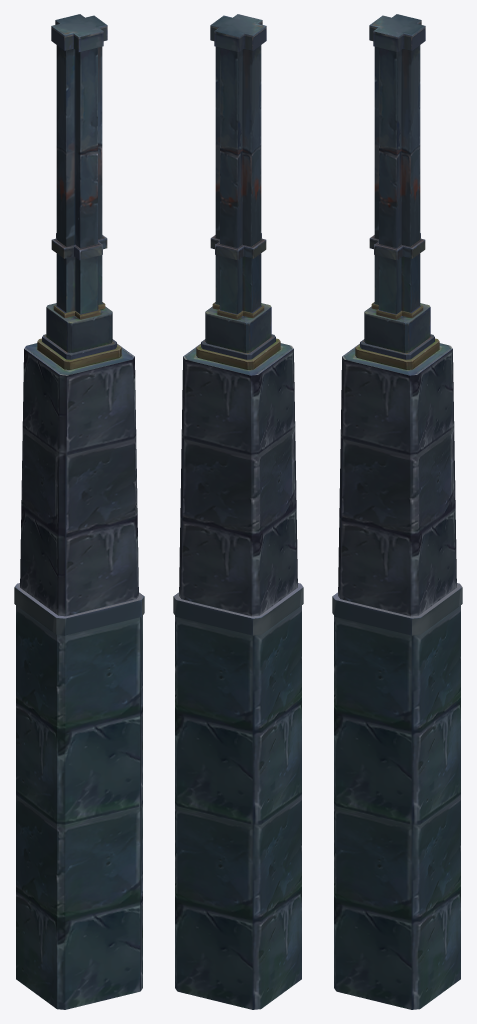
Rendered from FB7_puoshuijianzhu01.FBX.
3 renders of one model, left to right at view 1: azimuth 30°, elevation 25°; view 2: azimuth 150°, elevation 25°; view 3: azimuth 330°, elevation 25°, orthographic.
Parts seen in each view (by area): view 1: FB7_jianzhu01_018, FB7_jianzhu01_019, FB7_jianzhu01_020; view 2: FB7_jianzhu01_018, FB7_jianzhu01_019, FB7_jianzhu01_020; view 3: FB7_jianzhu01_018, FB7_jianzhu01_019, FB7_jianzhu01_020.
Boxes of the visible parts, x1,y1,x2,y2 form: FB7_jianzhu01_018: [14, 216, 144, 1009]; FB7_jianzhu01_019: [56, 67, 102, 234]; FB7_jianzhu01_020: [51, 14, 107, 77]; FB7_jianzhu01_018: [173, 216, 303, 1009]; FB7_jianzhu01_019: [215, 66, 261, 235]; FB7_jianzhu01_020: [210, 14, 266, 83]; FB7_jianzhu01_018: [332, 223, 462, 1009]; FB7_jianzhu01_019: [374, 68, 420, 236]; FB7_jianzhu01_020: [369, 14, 425, 82].
Size of the model in its own units: 351 by 3641 by 330.
